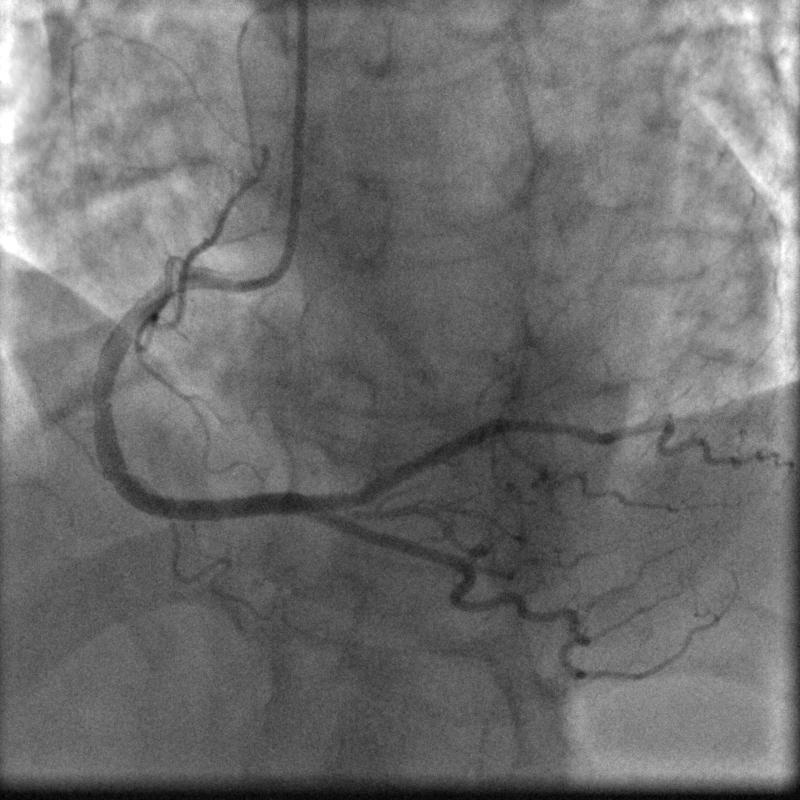Stenosis: (83, 379, 121, 428)
